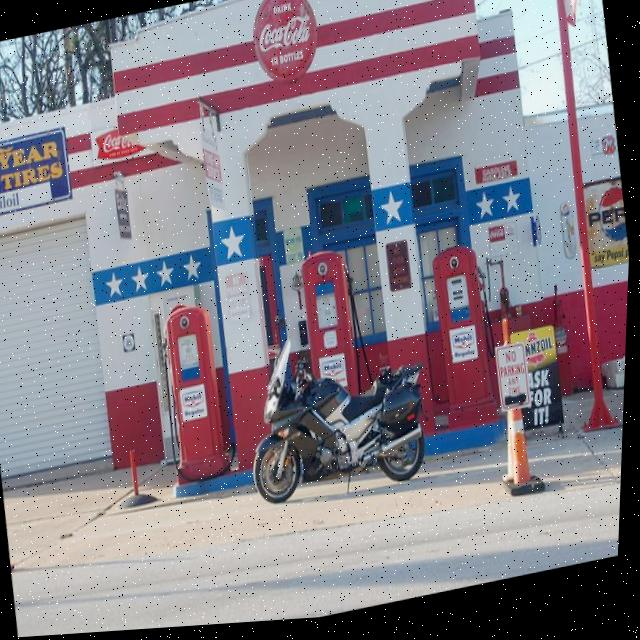motorcycle: (230, 307, 446, 514), (111, 12, 147, 44)
